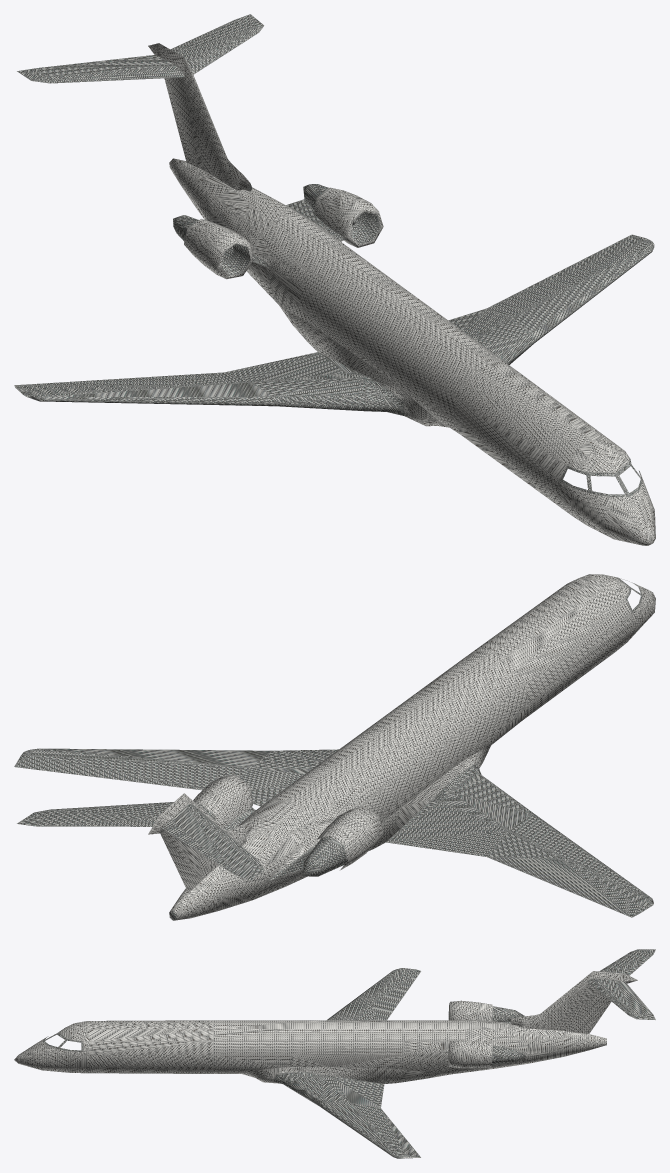
Rendered from bombardier_crj_700_LOD1.gltf.
3 renders of one model, top to bottom at view 1: azimuth 30°, elevation 25°; view 2: azimuth 150°, elevation 25°; view 3: azimuth 270°, elevation 25°, orthographic. The views are drawn at different scales.
Parts seen in each view (by area): view 1: node1.001, node2.001; view 2: node1.001, node2.001; view 3: node1.001, node2.001.
Boxes of the visible parts, bbox=[...] form: node1.001: bbox=[148, 43, 655, 545]; node2.001: bbox=[14, 14, 654, 496]; node1.001: bbox=[22, 574, 655, 920]; node2.001: bbox=[14, 577, 653, 920]; node1.001: bbox=[14, 971, 637, 1158]; node2.001: bbox=[42, 949, 655, 1158].
Bounding box in the file's own units: 22.67 × 5.99 × 32.34.
